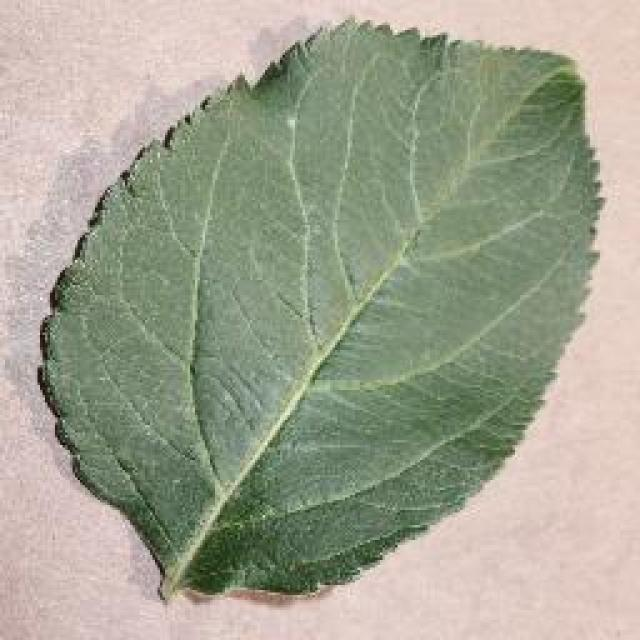apple healthy: (35, 12, 605, 602)
